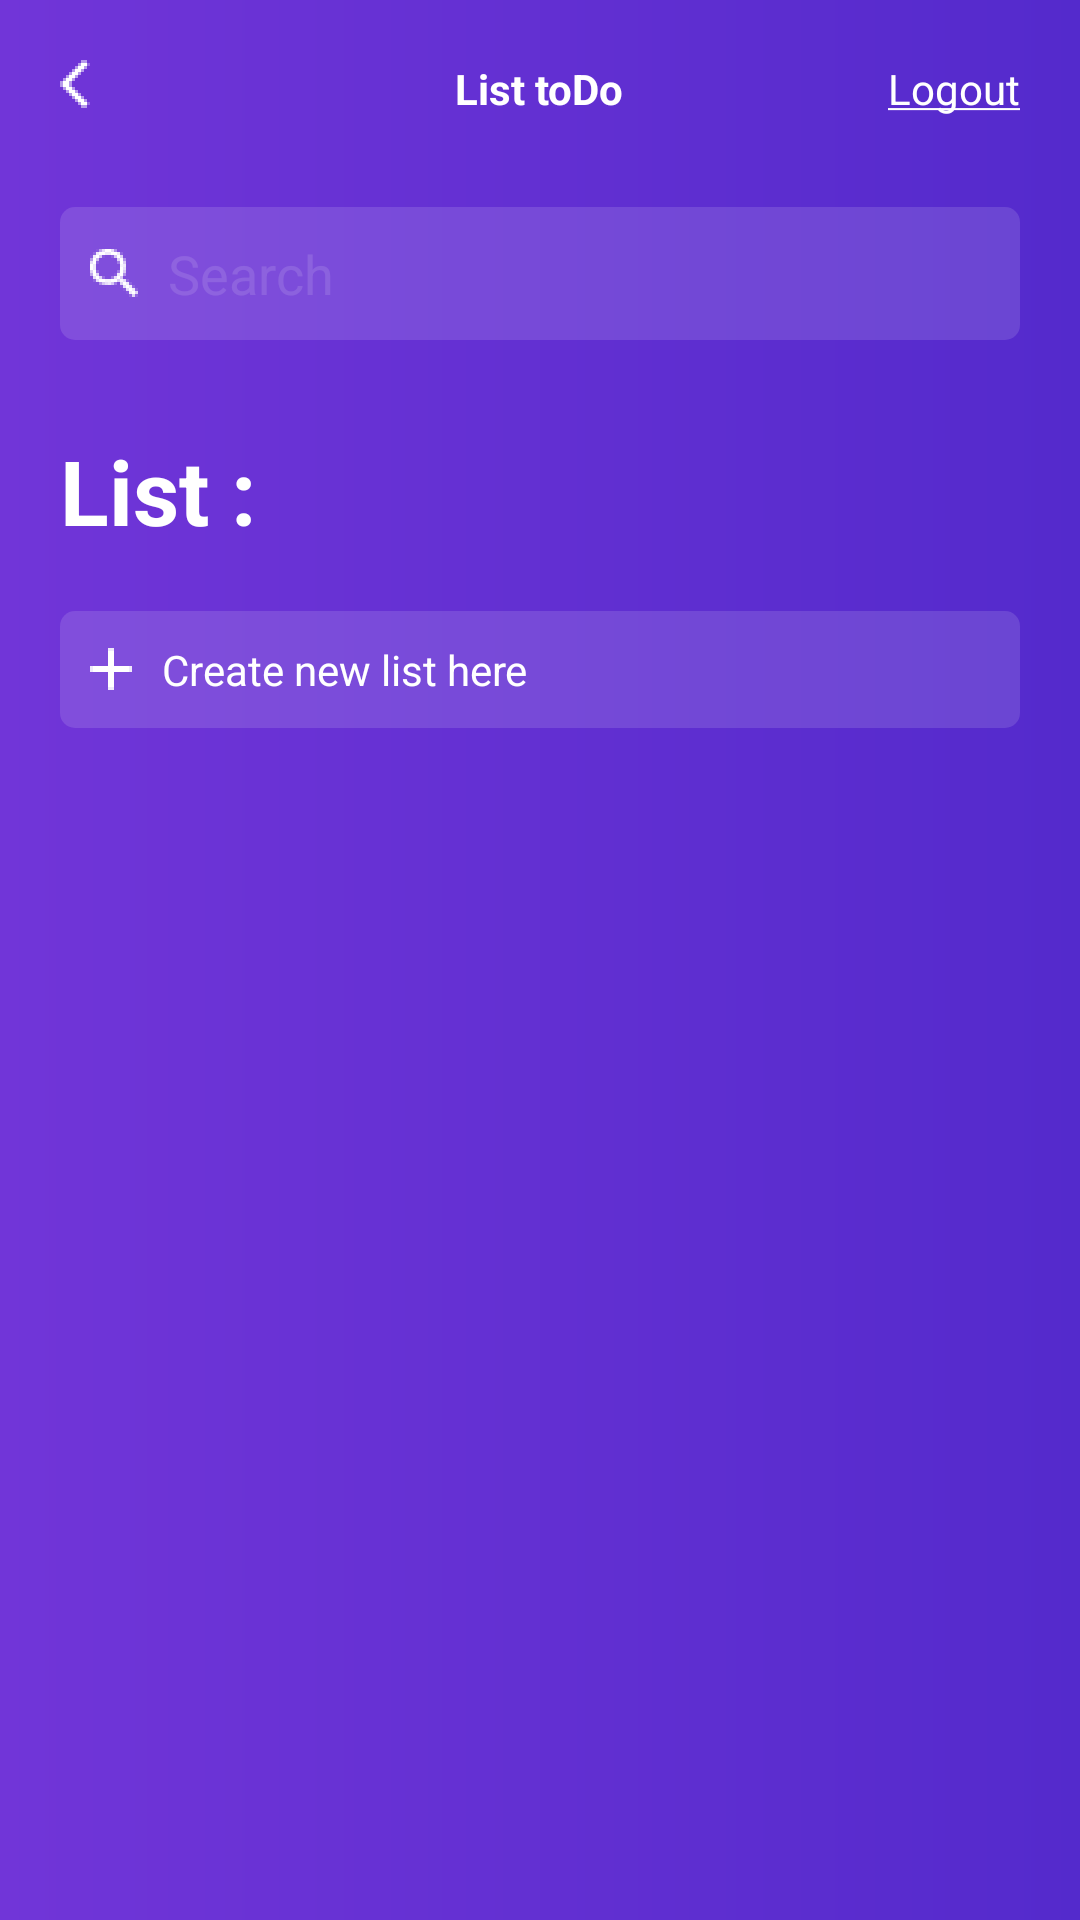

Where to tap for icons on this 1080 × 1920 app screen, as (x=x, y=y):
back: (x=75, y=84)
plus: (x=111, y=669)
